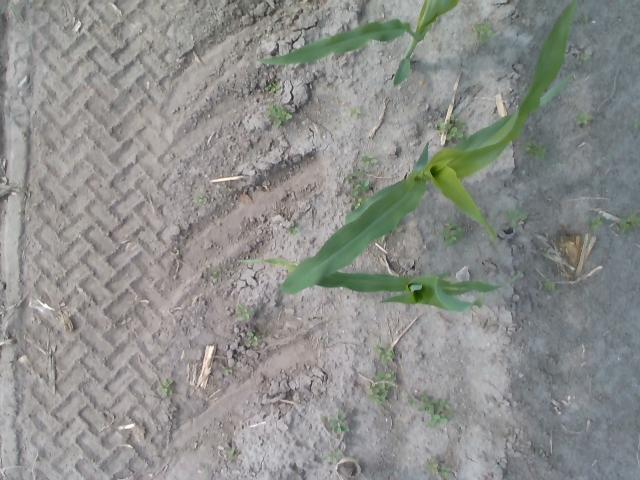Maize: (276, 1, 574, 296), (251, 0, 459, 86), (238, 256, 518, 312)
Weeds: (408, 392, 451, 427), (371, 370, 398, 406), (442, 114, 466, 140), (424, 458, 451, 478), (444, 222, 464, 244), (328, 412, 348, 433), (474, 18, 493, 40), (616, 214, 638, 232), (272, 108, 292, 127), (350, 178, 370, 196), (526, 142, 546, 158), (236, 303, 254, 320), (378, 346, 394, 363), (576, 110, 592, 125), (162, 376, 174, 396), (245, 331, 259, 347), (586, 216, 602, 230), (324, 450, 342, 462), (508, 212, 525, 224), (359, 154, 377, 163), (200, 465, 210, 480), (544, 280, 556, 290), (212, 269, 224, 279), (350, 108, 361, 118), (222, 366, 232, 376), (353, 196, 363, 206), (436, 118, 446, 128), (266, 82, 276, 92), (343, 175, 353, 183), (226, 450, 236, 458), (290, 226, 298, 235), (580, 53, 590, 60), (634, 118, 640, 128), (196, 195, 203, 202), (584, 15, 588, 20)
